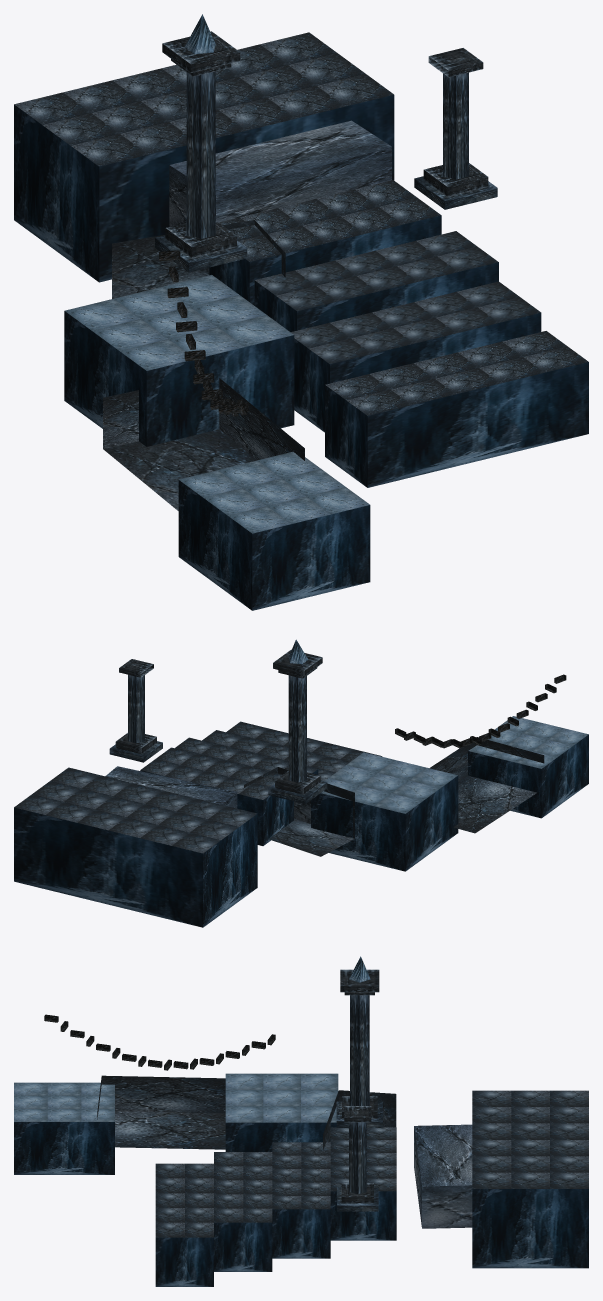
File: citadel_ascent_0.obj
3 views of the same model, one above another, from view 1: azimuth 30°, elevation 25°; view 2: azimuth 150°, elevation 25°; view 3: azimuth 270°, elevation 25° (orthographic). The views are drawn at different scales.
Visible parts, largest first — view 1: citadel_ascent_0; view 2: citadel_ascent_0; view 3: citadel_ascent_0.
Part boxes in pixels (left/top/right/bottom): citadel_ascent_0: left=14, top=14, right=588, bottom=610; citadel_ascent_0: left=14, top=639, right=588, bottom=927; citadel_ascent_0: left=14, top=956, right=588, bottom=1286.
Size of the model in its own units: 19.57 by 14.3 by 29.6.
Materials: 1 (1 with a texture image).
